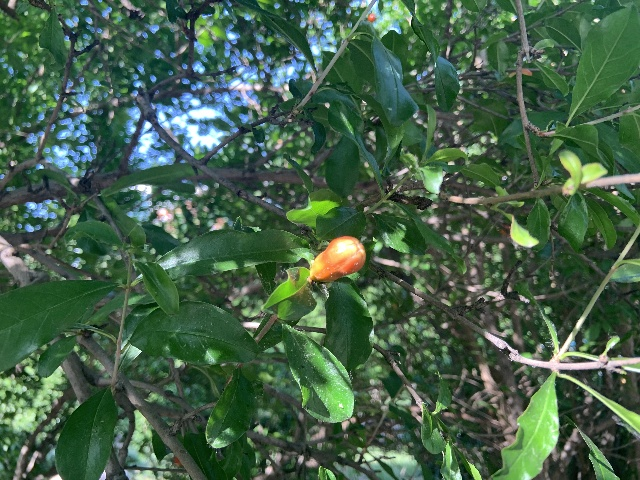bud: (309, 235, 366, 281)
